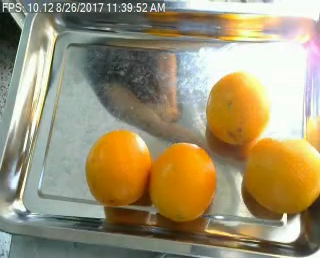Orange: (242, 135, 319, 213), (149, 141, 217, 221), (84, 129, 151, 208), (206, 70, 270, 145)
